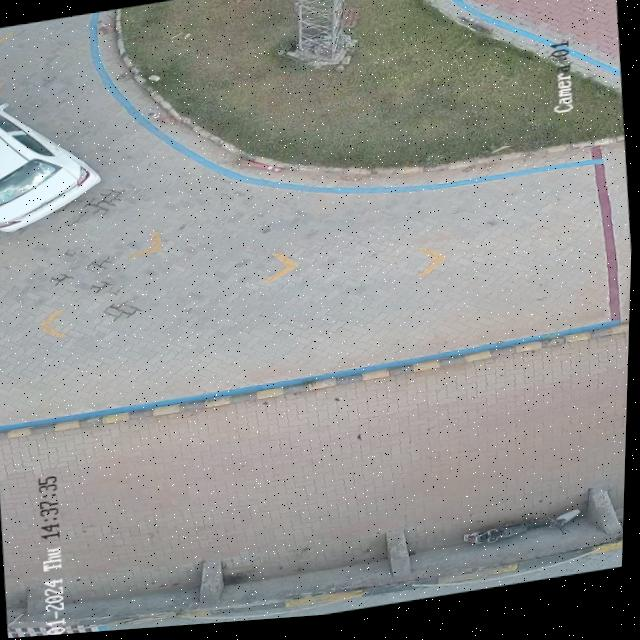car: (0, 101, 101, 231)
